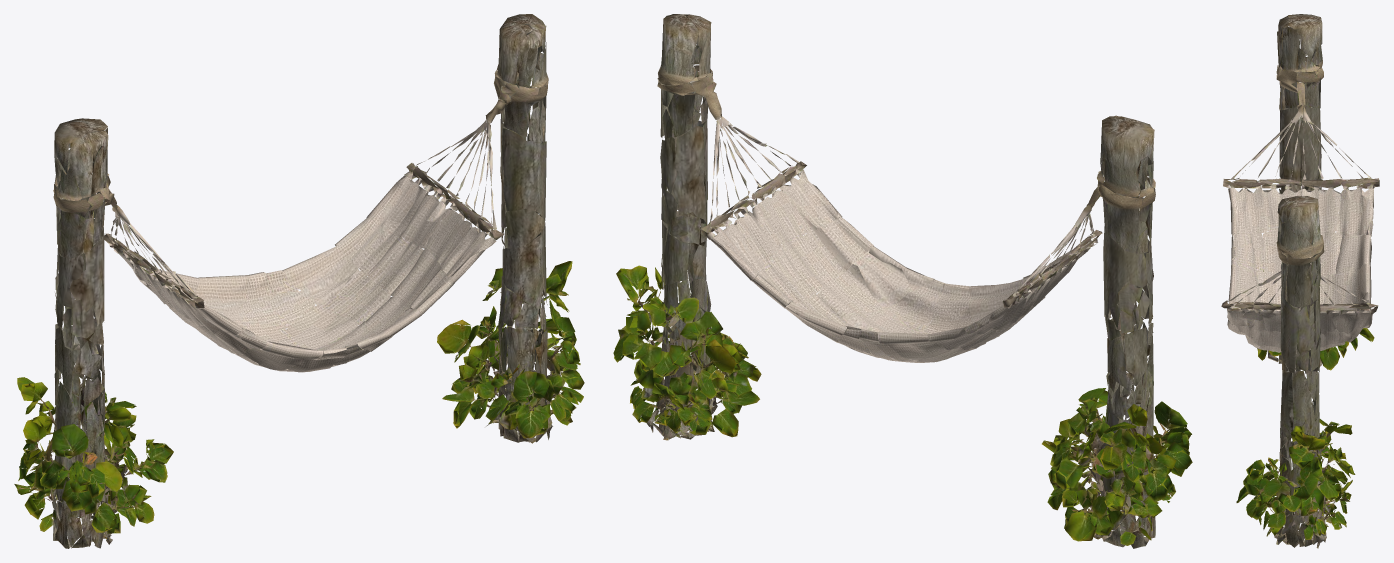
Rendered from hammock.glb.
The picture shows the model from 3 angles, left to right: view 1: azimuth 30°, elevation 25°; view 2: azimuth 150°, elevation 25°; view 3: azimuth 270°, elevation 25°; orthographic projection. The views are drawn at different scales.
Visible parts, largest first — view 1: Mesh_0; view 2: Mesh_0; view 3: Mesh_0.
Part boxes in pixels (left/top/right/bottom): Mesh_0: left=14, top=14, right=584, bottom=548; Mesh_0: left=613, top=14, right=1192, bottom=548; Mesh_0: left=1221, top=14, right=1379, bottom=548.
Bounding box in the file's own units: 1.9 × 1.37 × 0.5668.
1 material, 1 textured.
